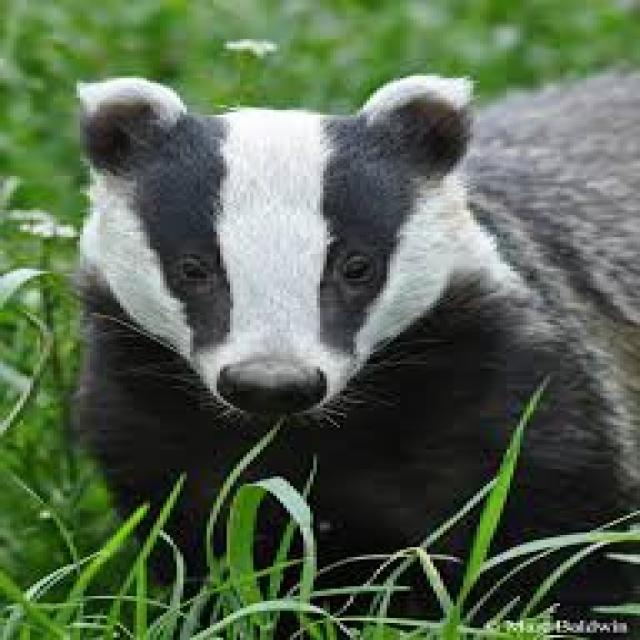Badger: (55, 59, 536, 536)
